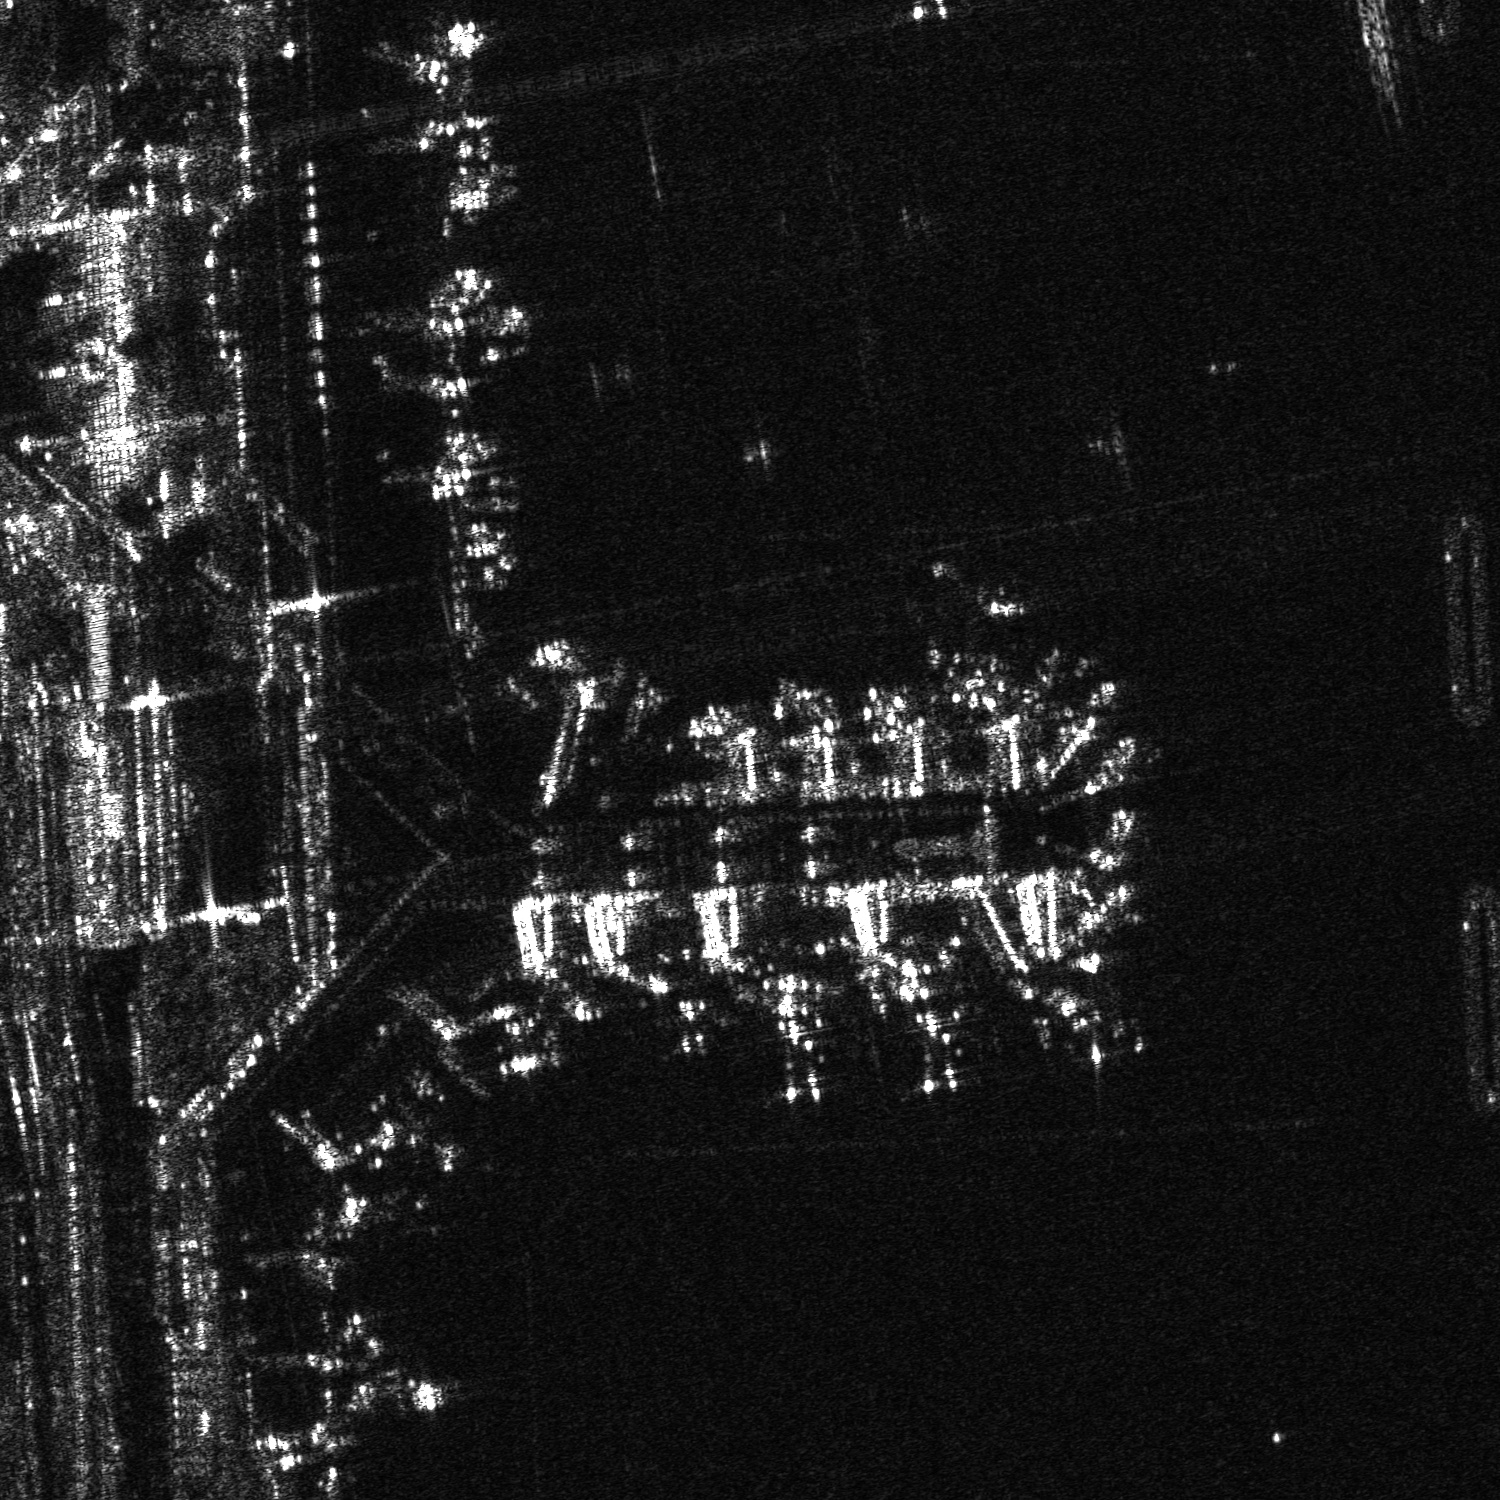A220: (924, 587, 1027, 695), (650, 990, 731, 1060)
A320/321: (424, 257, 532, 365), (324, 1332, 452, 1420), (413, 424, 523, 514), (387, 1113, 468, 1179)
Boeing737: (1023, 979, 1137, 1080)
Boeing787: (738, 988, 848, 1110)
other: (889, 977, 989, 1095)
